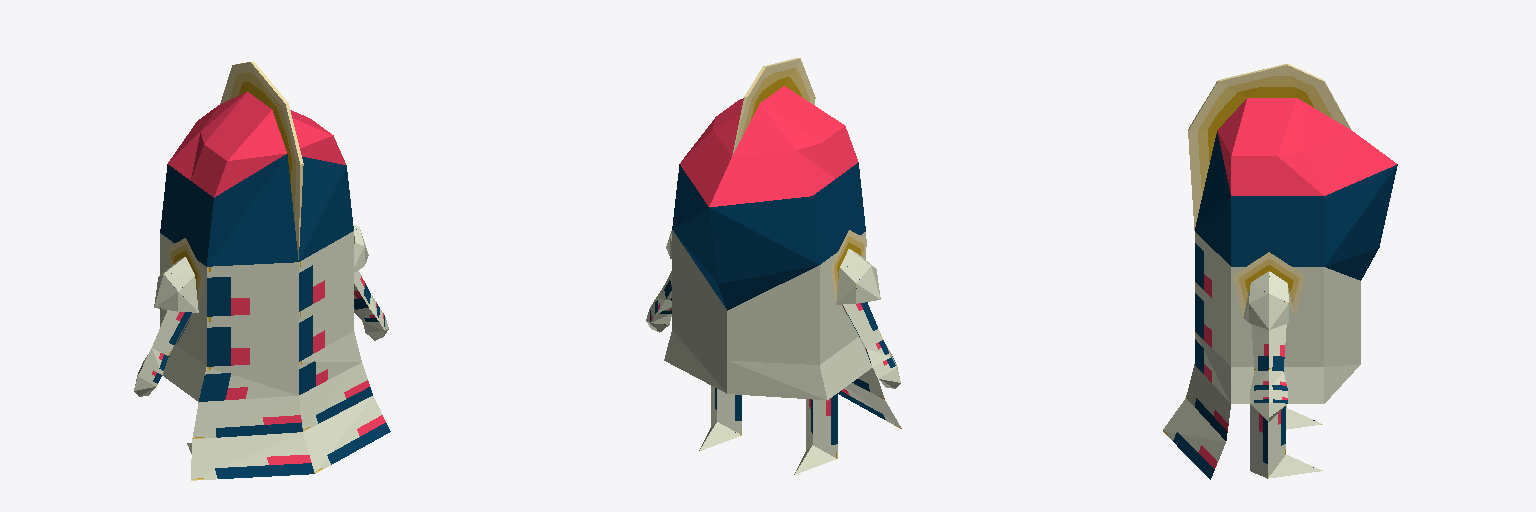
3 renders of one model, left to right at view 1: azimuth 30°, elevation 25°; view 2: azimuth 150°, elevation 25°; view 3: azimuth 270°, elevation 25°, orthographic.
Visible parts, largest first — view 1: Cube_Cube.001; view 2: Cube_Cube.001; view 3: Cube_Cube.001.
Part boxes in pixels (left/top/right/bottom): Cube_Cube.001: left=134, top=61, right=390, bottom=480; Cube_Cube.001: left=646, top=58, right=901, bottom=474; Cube_Cube.001: left=1163, top=64, right=1397, bottom=479.
Bounding box in the file's own units: 1.6 × 2.3 × 1.28.
Materials: 2 (1 with a texture image).